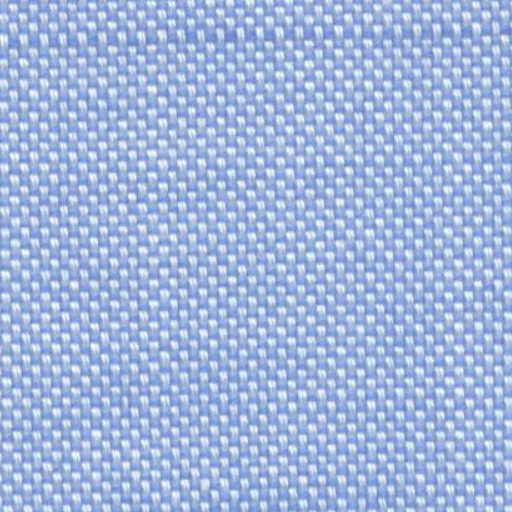TuoSha: (12, 10, 502, 70)
